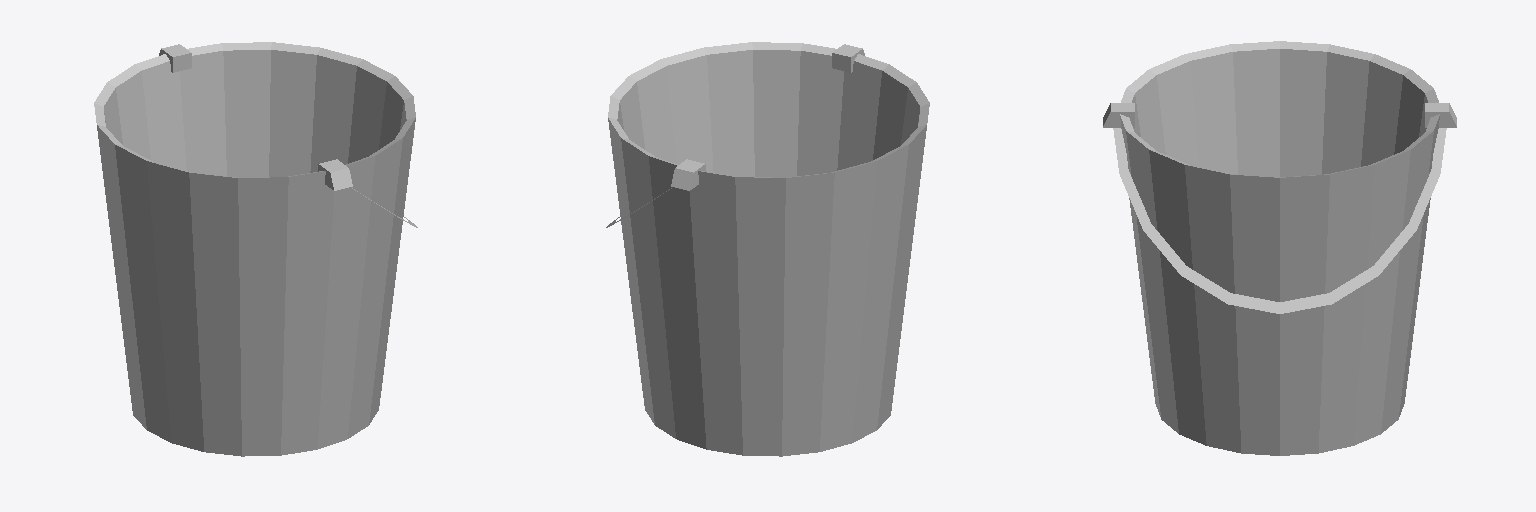
Rendered from bucket.obj.
3 renders of one model, left to right at view 1: azimuth 30°, elevation 25°; view 2: azimuth 150°, elevation 25°; view 3: azimuth 270°, elevation 25°, orthographic.
Parts seen in each view (by area): view 1: bucket2; view 2: bucket2; view 3: bucket2.
Part boxes in pixels (left/top/right/bottom): bucket2: left=94, top=42, right=417, bottom=456; bucket2: left=606, top=42, right=929, bottom=456; bucket2: left=1103, top=41, right=1456, bottom=455.
Size of the model in its own units: 1.8 by 1.8 by 1.96.